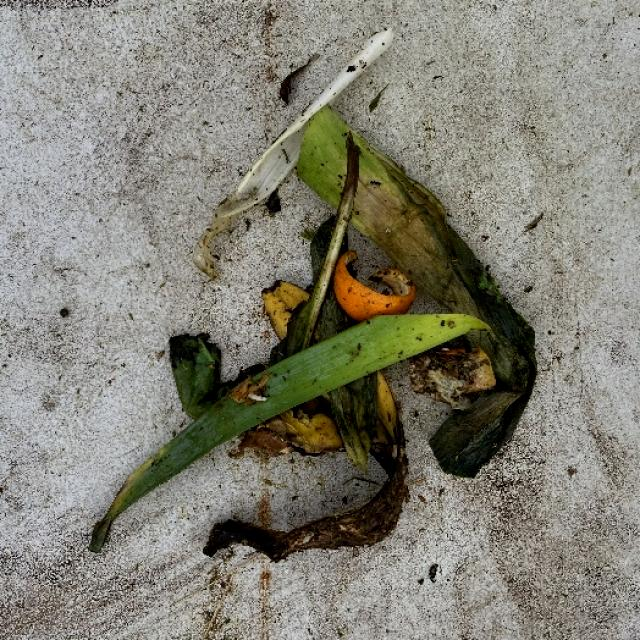organic: (192, 118, 526, 533)
